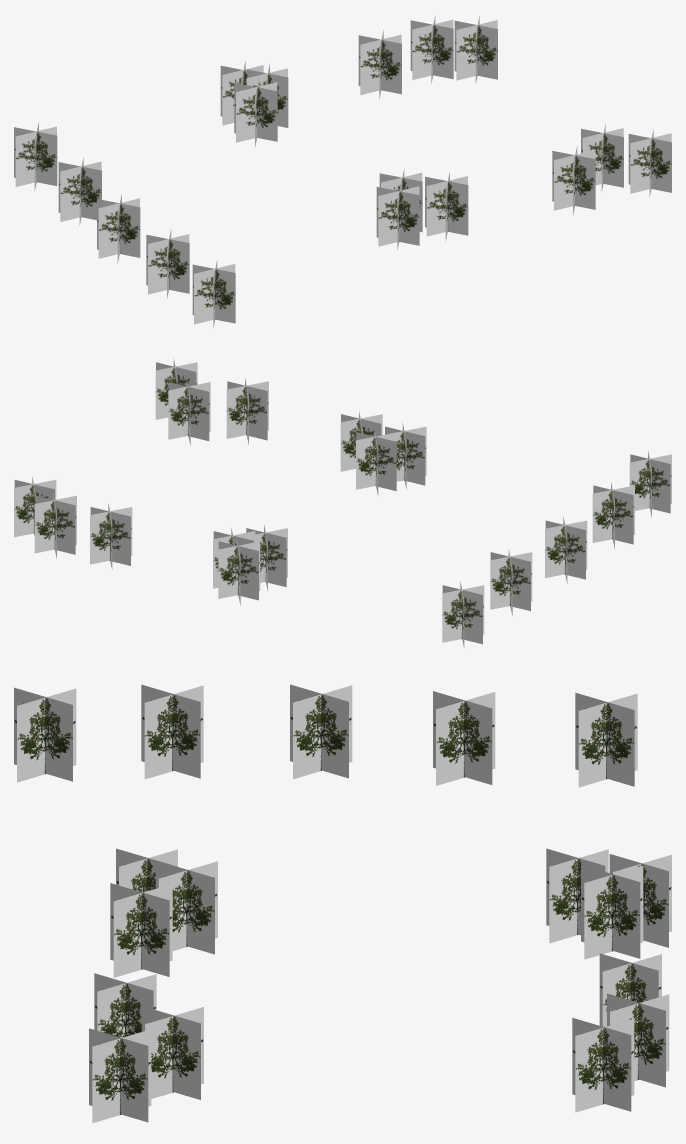
Rendered from landscape.gltf.
3 renders of one model, top to bottom at view 1: azimuth 30°, elevation 25°; view 2: azimuth 150°, elevation 25°; view 3: azimuth 270°, elevation 25°, orthographic. The views are drawn at different scales.
Size of what is drawn, in the model's own units: 63.37 by 6.15 by 47.05.
1 material, 1 textured.
